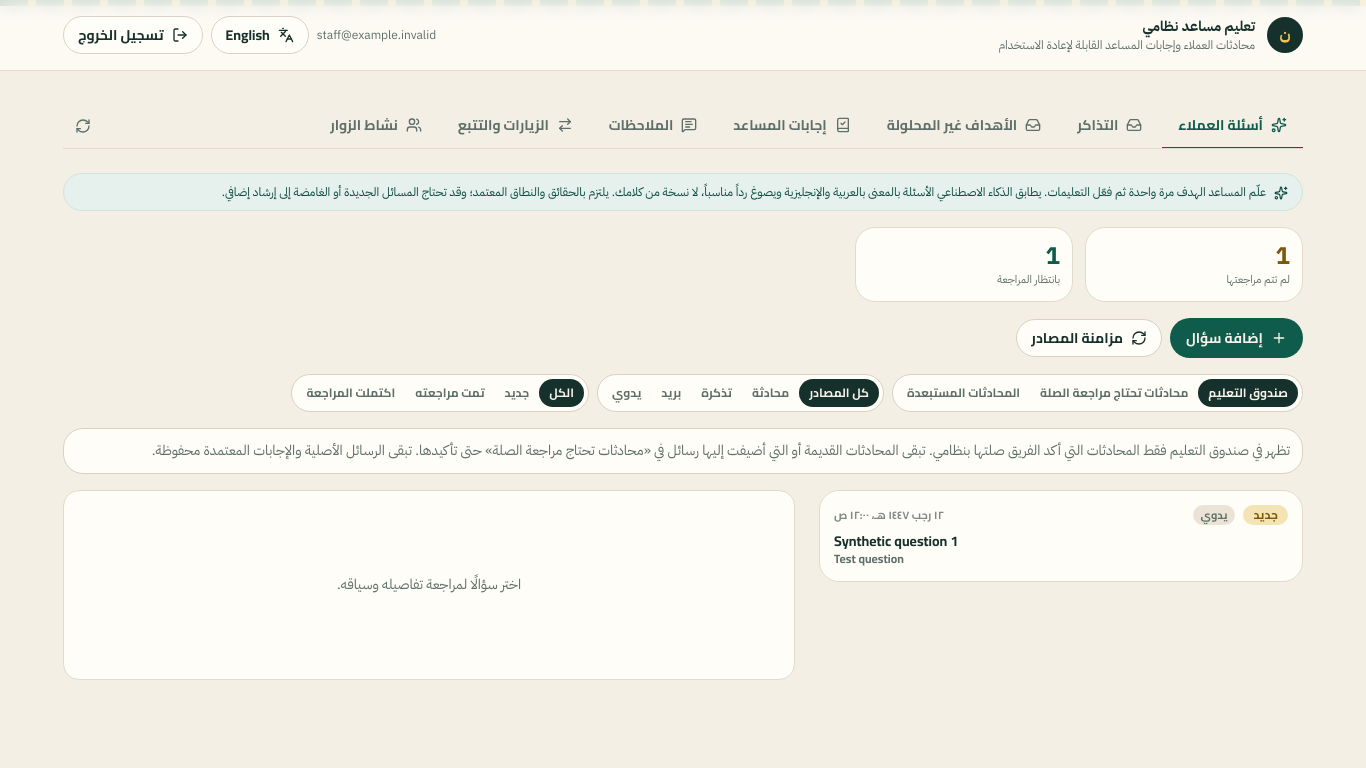
Scenario: inbox sync in ar › keeps questions visible after a later local refresh failure and clears the warning on retry
The width and height of the screenshot is (1366, 768).
Later steps or results of the test are not shown.
Expected: the button with test id "card-inbox-1" is shown, top-left (819, 490), bottom-right (1303, 582)
Click the button with test id "button-sync" at [1089, 338], box top-left (1016, 318), bottom-right (1162, 356)
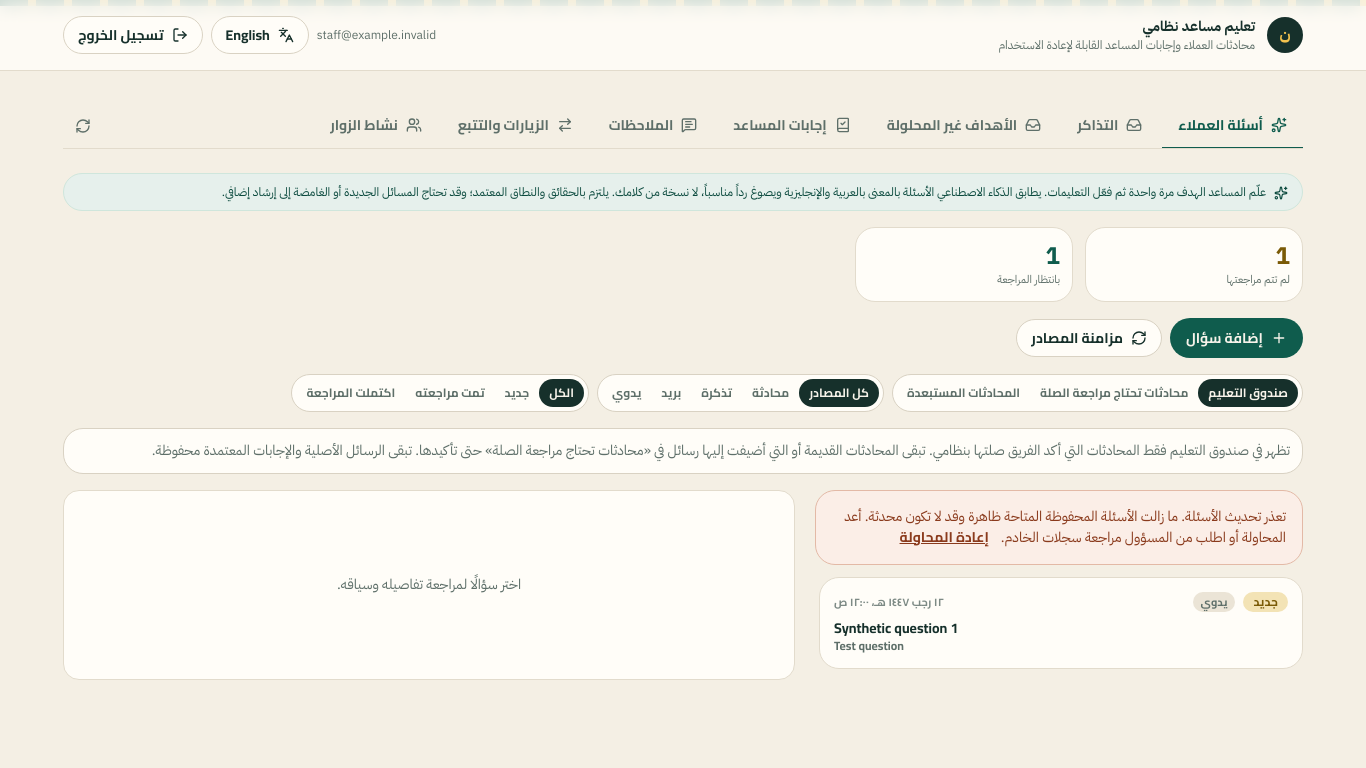
Expected: the button with test id "card-inbox-1" is shown, top-left (819, 576), bottom-right (1303, 669)
Expected: the message shows "تعذر تحديث الأسئلة.", top-left (844, 506), bottom-right (1286, 548)
Click the button with test id "button-inbox-retry" at [944, 536], box top-left (900, 526), bottom-right (989, 546)
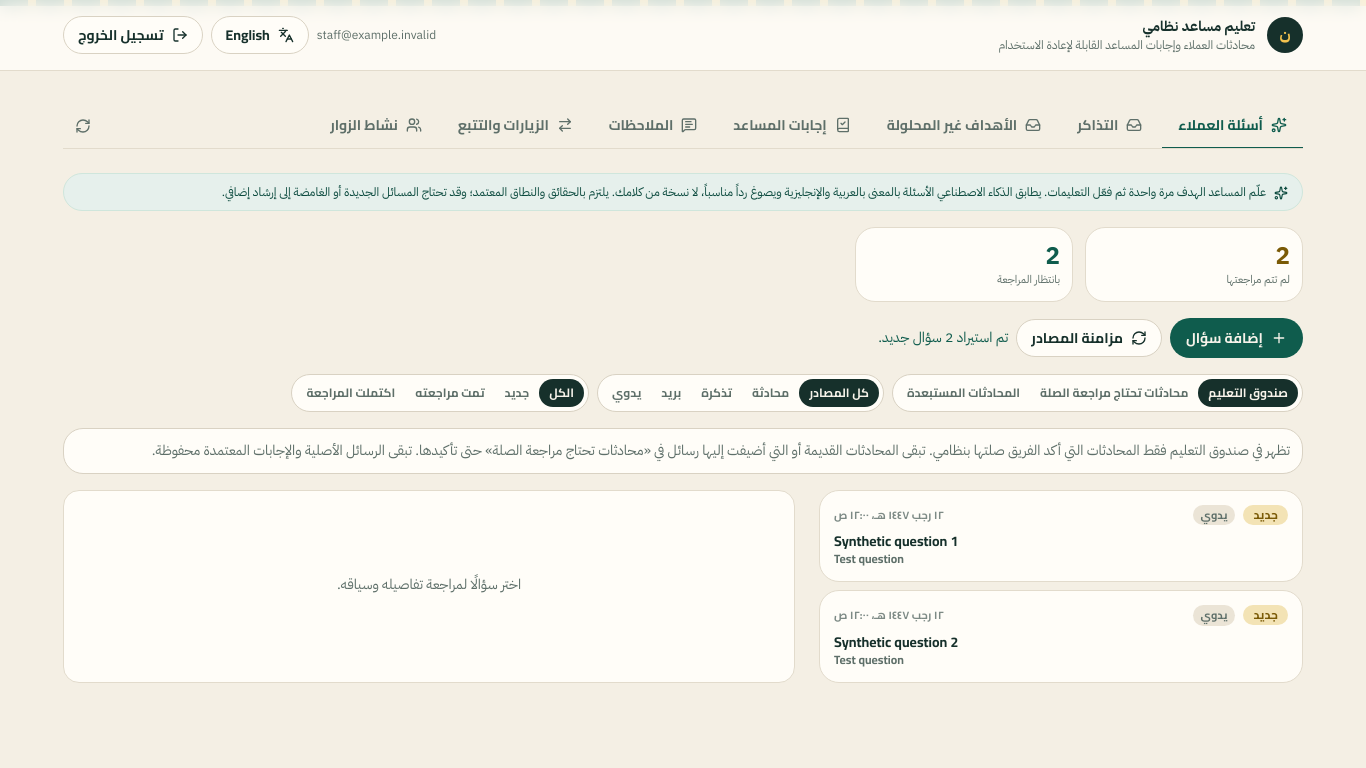
Expected: the button with test id "card-inbox-2" is shown, top-left (819, 590), bottom-right (1303, 682)
